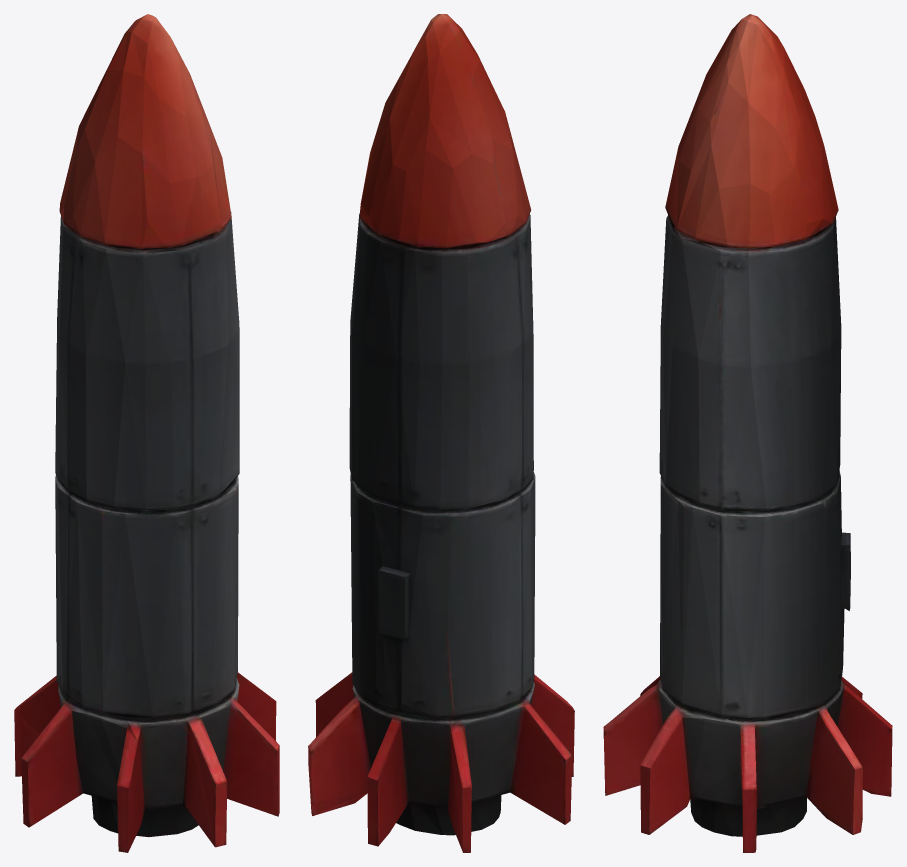
File: threat-missile-ai.glb
3 renders of one model, left to right at view 1: azimuth 30°, elevation 25°; view 2: azimuth 150°, elevation 25°; view 3: azimuth 270°, elevation 25°, orthographic.
Visible parts, largest first — view 1: geometry_0; view 2: geometry_0; view 3: geometry_0.
Part boxes in pixels (x1,y1,x2,y2): geometry_0: (14, 14, 279, 852); geometry_0: (308, 14, 574, 852); geometry_0: (603, 14, 892, 852).
Size of the model in its own units: 0.3252 by 0.9972 by 0.3268.
Materials: 1 (1 with a texture image).
